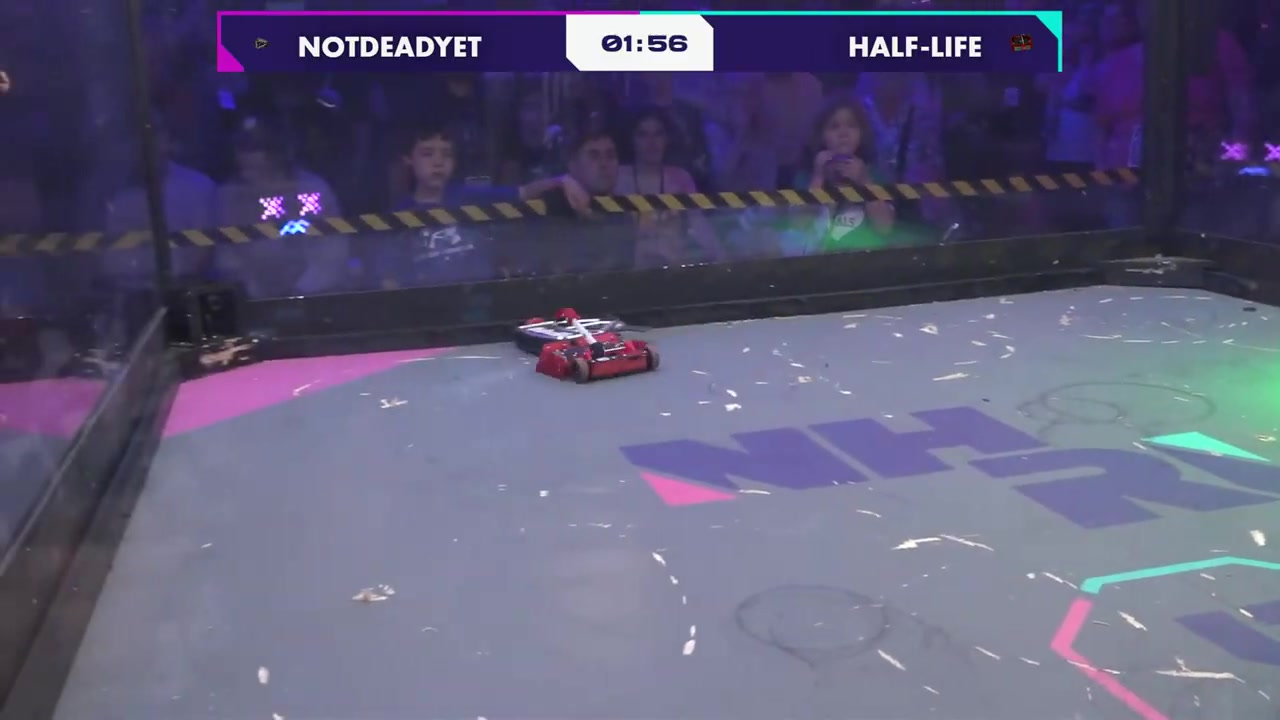combatbot: (533, 329, 665, 383), (514, 314, 632, 357)
